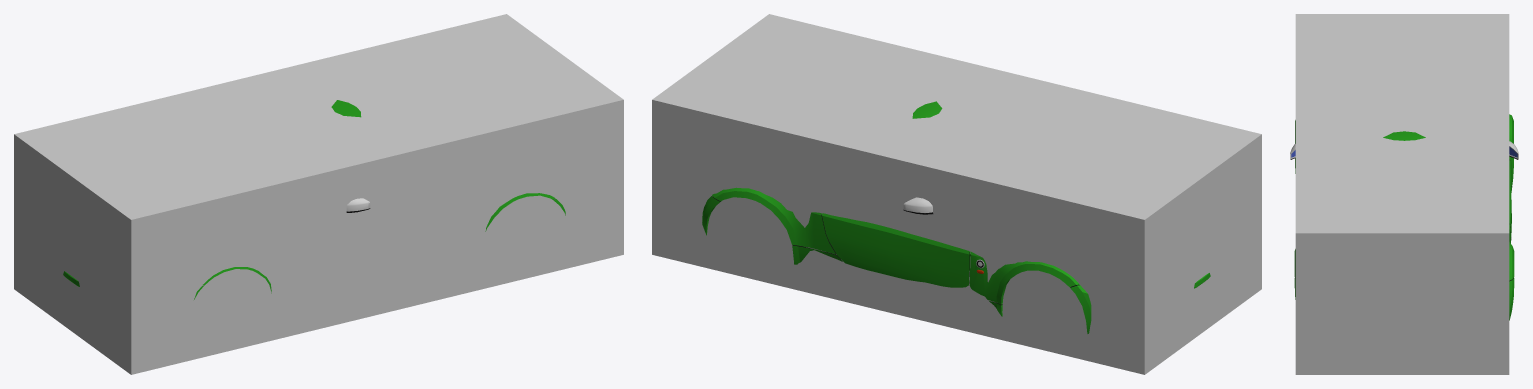
3 views of the same model, side by side, from view 1: azimuth 30°, elevation 25°; view 2: azimuth 150°, elevation 25°; view 3: azimuth 270°, elevation 25° (orthographic). The views are drawn at different scales.
Parts seen in each view (by area): view 1: Cube, car_Plane.001; view 2: Cube, car_Plane.001; view 3: Cube, car_Plane.001.
Part boxes in pixels (left/top/right/bottom): Cube: left=14, top=14, right=623, bottom=374; car_Plane.001: left=63, top=100, right=565, bottom=299; Cube: left=652, top=14, right=1261, bottom=374; car_Plane.001: left=702, top=101, right=1210, bottom=333; Cube: left=1295, top=14, right=1509, bottom=374; car_Plane.001: left=1290, top=114, right=1518, bottom=320.
Size of what is drawn, in the model's own units: 6.48 by 1.95 by 2.85.
